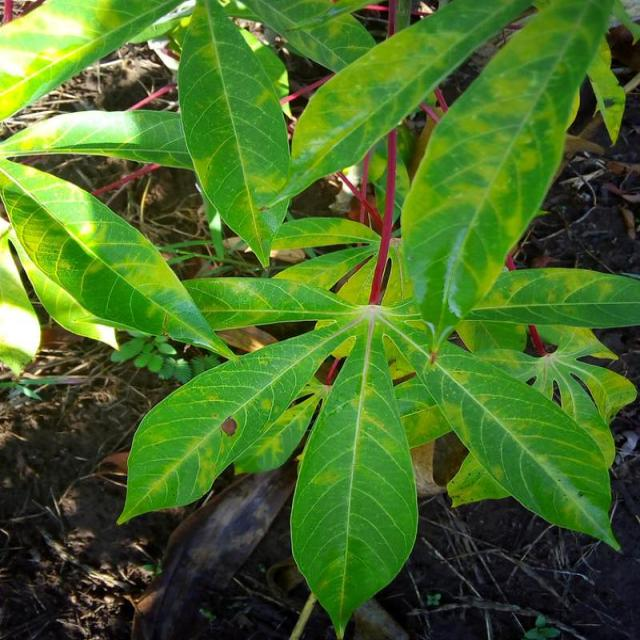cassava leaf: (0, 1, 638, 635), (398, 0, 616, 352), (267, 0, 532, 210), (116, 318, 354, 526), (0, 156, 238, 362), (422, 342, 621, 552), (289, 315, 418, 638), (176, 0, 292, 269)
